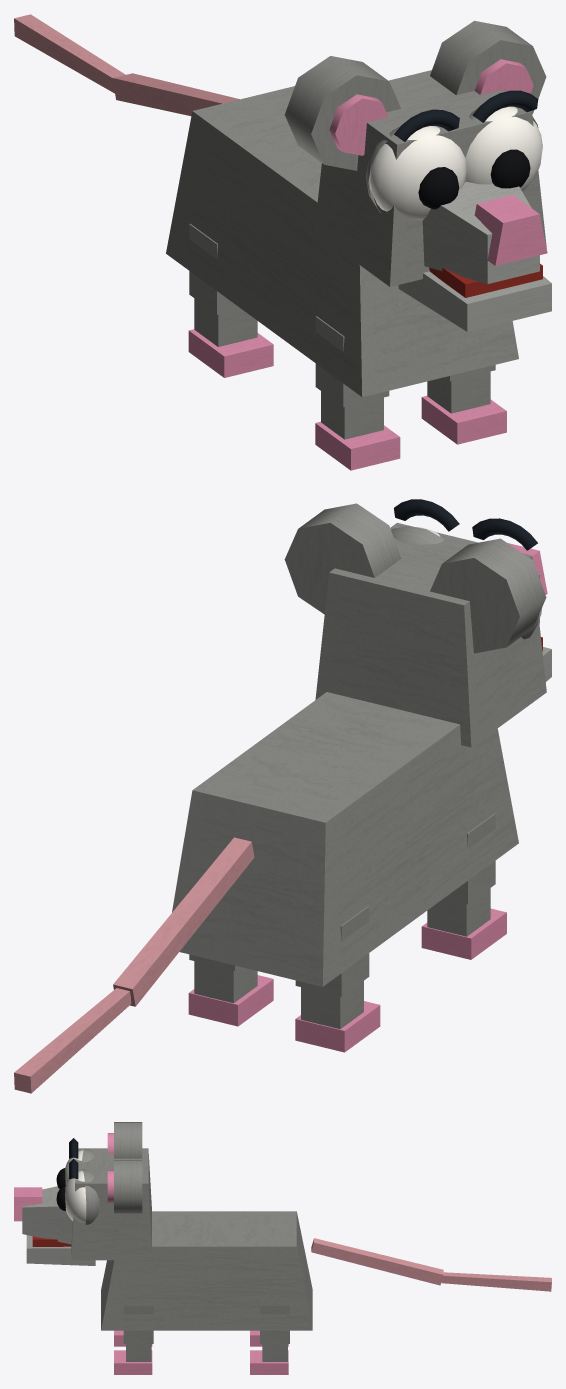
File: rat.glb
3 renders of one model, top to bottom at view 1: azimuth 30°, elevation 25°; view 2: azimuth 150°, elevation 25°; view 3: azimuth 270°, elevation 25°, orthographic. The views are drawn at different scales.
Visible parts, largest first — view 1: body, head, earR, earL, jaw, kneeFR, kneeBR, kneeFL, tail2, tail, legFR, legBR; view 2: body, head, earR, earL, tail, kneeBR, kneeFR, kneeBL, tail2, legBR, legFR; view 3: body, head, tail, earL, tail2, jaw, earR, kneeFL, kneeBL, legFL, legBL.
Boxes of the visible parts, x1=… form: body: x1=166, y1=86, x2=518, y2=397; head: x1=314, y1=70, x2=547, y2=286; earR: x1=284, y1=56, x2=400, y2=170; earL: x1=430, y1=20, x2=546, y2=113; jaw: x1=398, y1=263, x2=551, y2=331; kneeFR: x1=315, y1=391, x2=400, y2=470; kneeBR: x1=188, y1=298, x2=273, y2=377; kneeFL: x1=421, y1=371, x2=506, y2=444; tail2: x1=14, y1=14, x2=125, y2=93; tail: x1=113, y1=73, x2=239, y2=115; legFR: x1=315, y1=316, x2=389, y2=407; legBR: x1=189, y1=223, x2=240, y2=314; body: x1=172, y1=692, x2=518, y2=986; head: x1=315, y1=499, x2=547, y2=747; earR: x1=430, y1=538, x2=546, y2=653; earL: x1=284, y1=503, x2=400, y2=614; tail: x1=113, y1=837, x2=254, y2=1006; kneeBR: x1=295, y1=981, x2=380, y2=1052; kneeFR: x1=421, y1=888, x2=506, y2=959; kneeBL: x1=188, y1=961, x2=273, y2=1026; tail2: x1=14, y1=988, x2=131, y2=1093; legBR: x1=295, y1=906, x2=369, y2=996; legFR: x1=444, y1=813, x2=495, y2=904; body: x1=101, y1=1211, x2=312, y2=1330; head: x1=14, y1=1138, x2=152, y2=1260; tail: x1=311, y1=1238, x2=443, y2=1285; earL: x1=107, y1=1160, x2=142, y2=1213; tail2: x1=441, y1=1272, x2=551, y2=1291; jaw: x1=26, y1=1235, x2=95, y2=1265; earR: x1=107, y1=1122, x2=142, y2=1158; kneeFL: x1=114, y1=1344, x2=152, y2=1374; kneeBL: x1=250, y1=1344, x2=288, y2=1374; legFL: x1=123, y1=1306, x2=153, y2=1343; legBL: x1=260, y1=1306, x2=289, y2=1343.
Size of the model in its own units: 0.18 by 0.2879 by 0.6612.
Materials: 16 (13 with a texture image).
